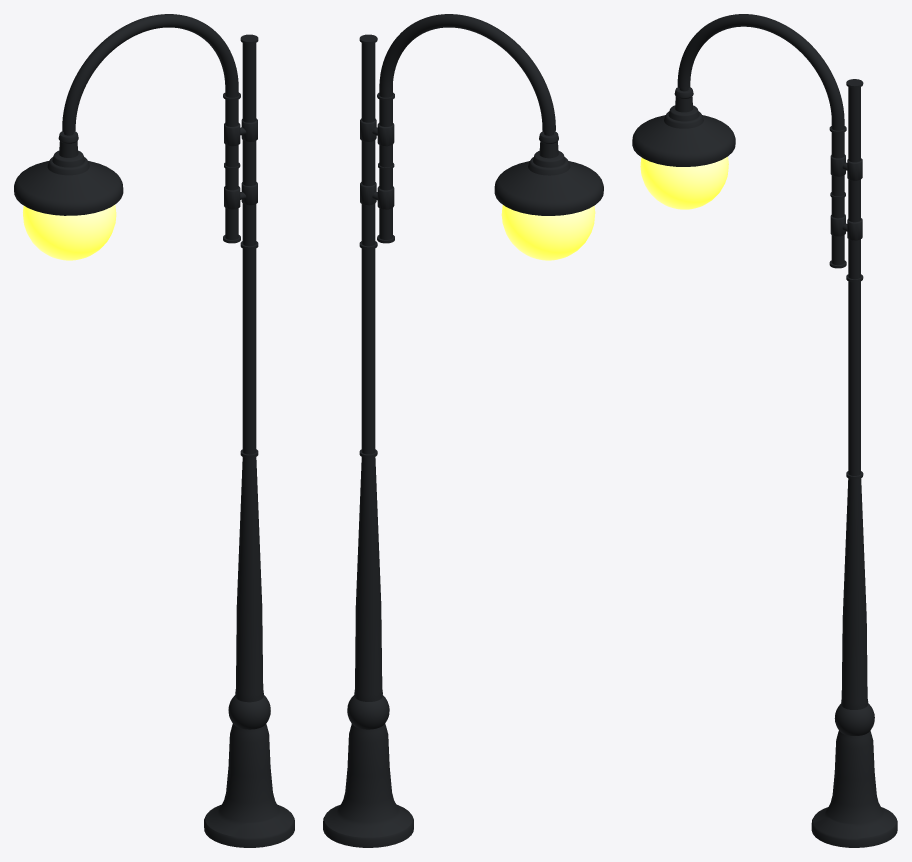
Rendered from jaaaapierdole.fbx.
3 renders of one model, left to right at view 1: azimuth 30°, elevation 25°; view 2: azimuth 150°, elevation 25°; view 3: azimuth 330°, elevation 25°, orthographic. The views are drawn at different scales.
Visible parts, largest first — view 1: trzon2, trzon1, swiecaca_zarowka, t7; view 2: trzon2, trzon1, swiecaca_zarowka, t7; view 3: trzon2, trzon1, swiecaca_zarowka, t7.
Part boxes in pixels (x1,y1,x2,y2): trzon2: (204, 34, 294, 847); trzon1: (14, 14, 240, 243); swiecaca_zarowka: (23, 204, 116, 260); t7: (228, 695, 270, 729); trzon2: (323, 34, 413, 847); trzon1: (377, 14, 603, 243); swiecaca_zarowka: (501, 205, 595, 260); t7: (347, 695, 389, 729); trzon2: (811, 79, 897, 847); trzon1: (632, 14, 846, 268); swiecaca_zarowka: (640, 156, 728, 209); t7: (834, 703, 874, 735).
Bounding box in the file's own units: 10.87 × 32.44 × 3.85.
